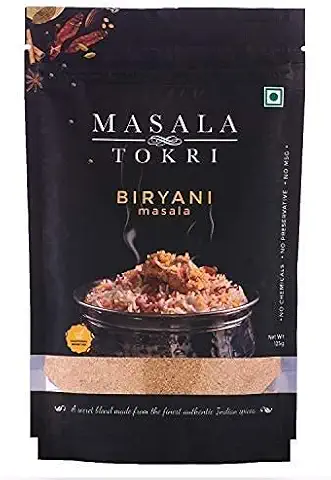Biryani: (25, 7, 296, 473)
